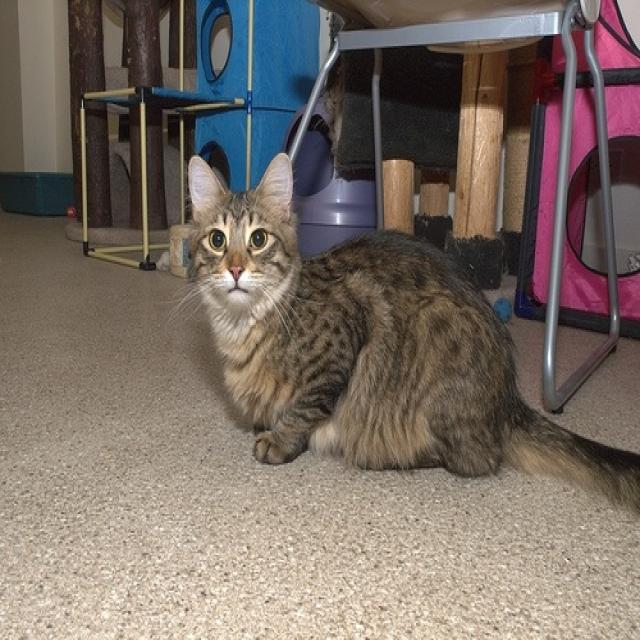cat: (166, 150, 639, 514)
